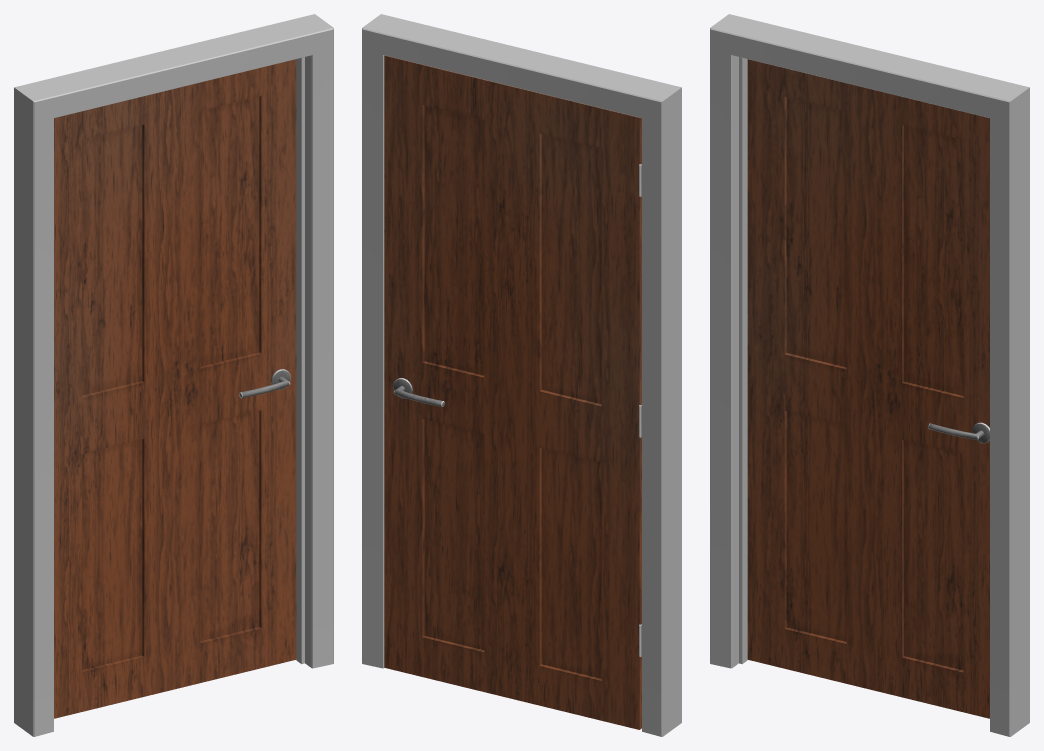
The model's file is cabin_door.fbx.
3 renders of one model, left to right at view 1: azimuth 30°, elevation 25°; view 2: azimuth 150°, elevation 25°; view 3: azimuth 330°, elevation 25°, orthographic.
Visible parts, largest first — view 1: doors_logcabin_door, doors_logcabin_frame; view 2: doors_logcabin_door, doors_logcabin_frame; view 3: doors_logcabin_door, doors_logcabin_frame.
Part boxes in pixels (left/top/right/bottom): doors_logcabin_door: left=54, top=59, right=296, bottom=718; doors_logcabin_frame: left=14, top=14, right=333, bottom=736; doors_logcabin_door: left=384, top=55, right=641, bottom=729; doors_logcabin_frame: left=362, top=14, right=681, bottom=736; doors_logcabin_door: left=747, top=59, right=989, bottom=718; doors_logcabin_frame: left=710, top=14, right=1029, bottom=736.
Size of the model in its own units: 112 by 225 by 17.8.
